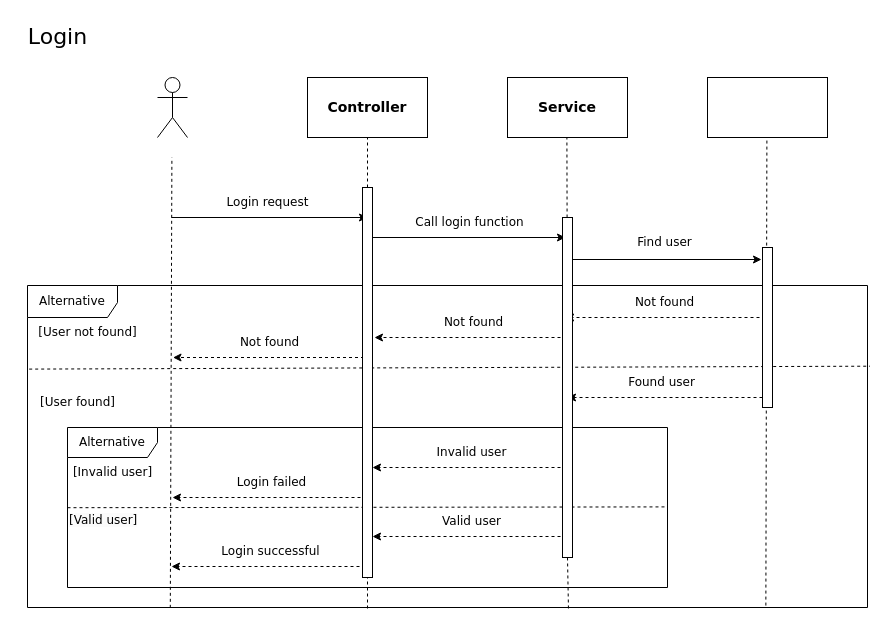
Some shapes in this 888 by 627 pixel diagram are drawn without their labels. The shapes that lost their labels are listed below. From the top down, each one's centre as x and y in pixels, then its label:
pixel 172 107: Actor
pixel 767 107: Database
